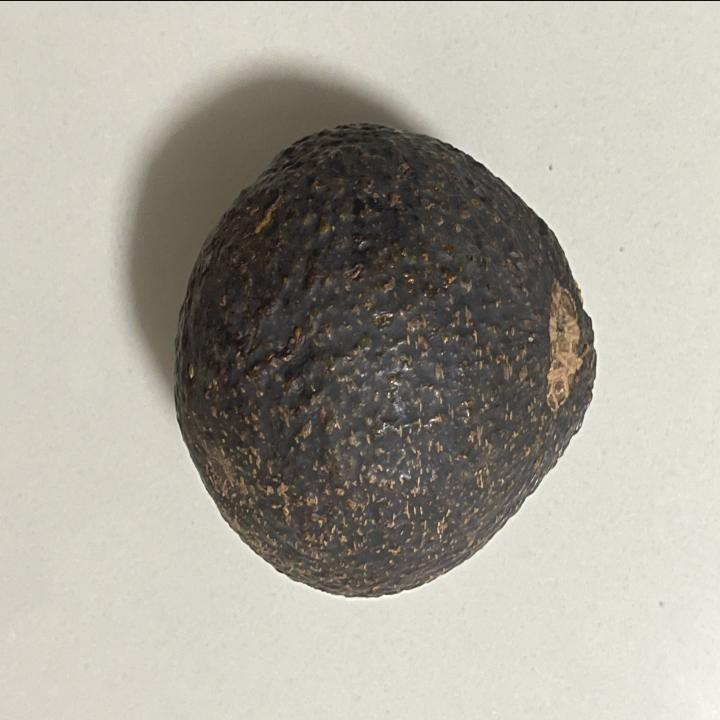Level2: (169, 114, 602, 604)
